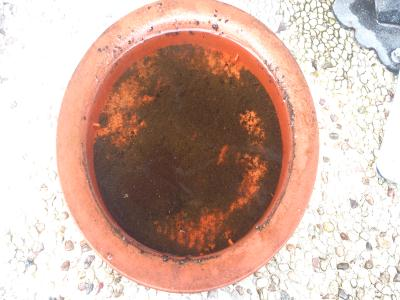bowl: (52, 1, 322, 291)
